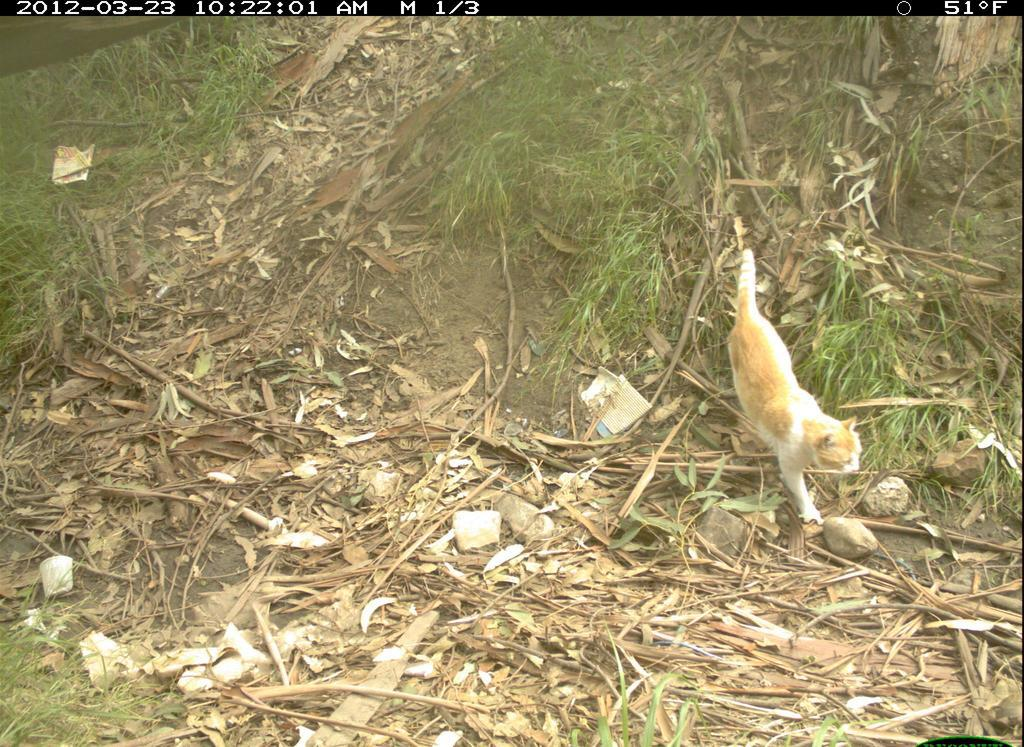cat: (715, 243, 871, 535)
